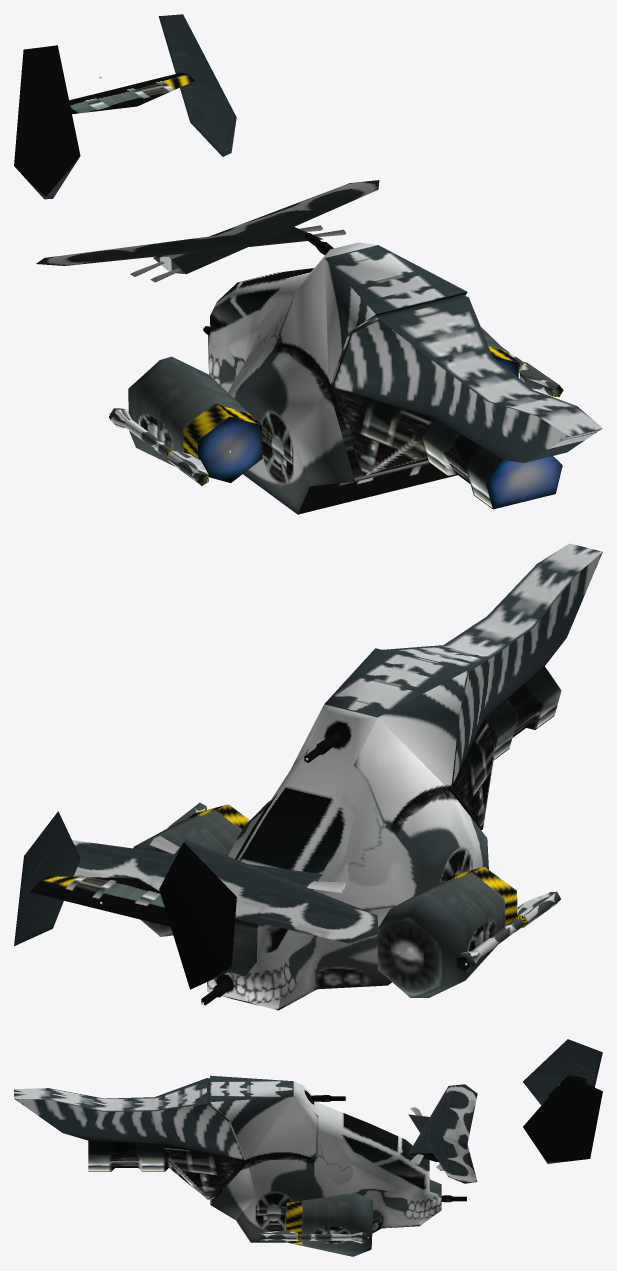
File: fig02ops1.obj
The picture shows the model from 3 angles, top to bottom: view 1: azimuth 30°, elevation 25°; view 2: azimuth 150°, elevation 25°; view 3: azimuth 270°, elevation 25°; orthographic projection. The views are drawn at different scales.
Visible parts, largest first — view 1: frm-ffuselg, frm-afuselg, frm-lbooster, frm-rfinzzz, frm-lfinzzz, frm-lwingzz2, frm-rwingzz2, frm-finzzz1, frm-l-gun, frm-r-gun; view 2: frm-ffuselg, frm-afuselg, frm-lbooster, frm-rfinzzz, frm-rwingzz2, frm-lfinzzz, frm-lwingzz2, frm-finzzz1, frm-rbooster, frm-l-gun; view 3: frm-ffuselg, frm-afuselg, frm-lfinzzz, frm-rbooster, frm-rfinzzz, frm-rwingzz2, frm-lwingzz2, frm-r-gun.
Part boxes in pixels (x1=…): frm-ffuselg: x1=208, y1=242, x2=467, y2=514; frm-afuselg: x1=332, y1=295, x2=602, y2=509; frm-lbooster: x1=128, y1=356, x2=262, y2=482; frm-rfinzzz: x1=14, y1=45, x2=80, y2=199; frm-lfinzzz: x1=158, y1=14, x2=236, y2=156; frm-lwingzz2: x1=153, y1=180, x2=379, y2=274; frm-rwingzz2: x1=36, y1=227, x2=322, y2=265; frm-finzzz1: x1=69, y1=72, x2=194, y2=114; frm-l-gun: x1=109, y1=408, x2=208, y2=485; frm-r-gun: x1=503, y1=348, x2=563, y2=397; frm-ffuselg: x1=207, y1=648, x2=488, y2=1010; frm-afuselg: x1=382, y1=543, x2=602, y2=829; frm-lbooster: x1=377, y1=867, x2=517, y2=997; frm-rfinzzz: x1=159, y1=842, x2=236, y2=989; frm-rwingzz2: x1=175, y1=840, x2=378, y2=943; frm-lfinzzz: x1=14, y1=811, x2=80, y2=946; frm-lwingzz2: x1=72, y1=840, x2=322, y2=925; frm-finzzz1: x1=29, y1=876, x2=170, y2=926; frm-rbooster: x1=133, y1=804, x2=249, y2=936; frm-l-gun: x1=456, y1=891, x2=560, y2=971; frm-ffuselg: x1=210, y1=1075, x2=441, y2=1242; frm-afuselg: x1=14, y1=1078, x2=246, y2=1199; frm-lfinzzz: x1=523, y1=1075, x2=602, y2=1163; frm-rbooster: x1=285, y1=1192, x2=372, y2=1256; frm-rfinzzz: x1=523, y1=1039, x2=602, y2=1105; frm-rwingzz2: x1=408, y1=1084, x2=477, y2=1161; frm-lwingzz2: x1=408, y1=1114, x2=477, y2=1183; frm-r-gun: x1=260, y1=1231, x2=366, y2=1243.
Bounding box in the file's own units: 3.06 × 2.27 × 7.14.
